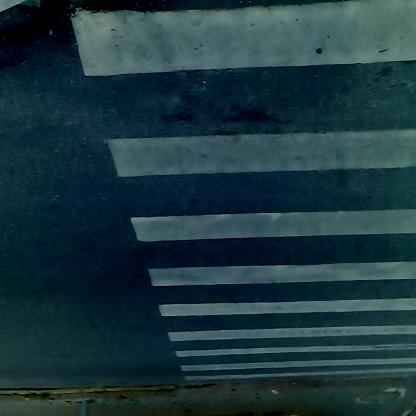crosswalk: (70, 25, 416, 377)
sidewalk: (9, 375, 414, 416)
